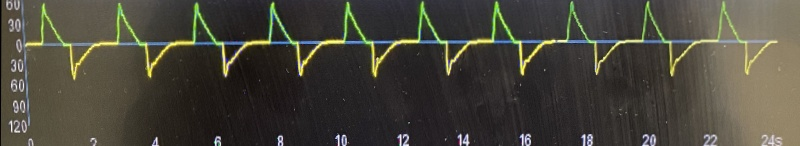normal_flow: (15, 0, 790, 86)
